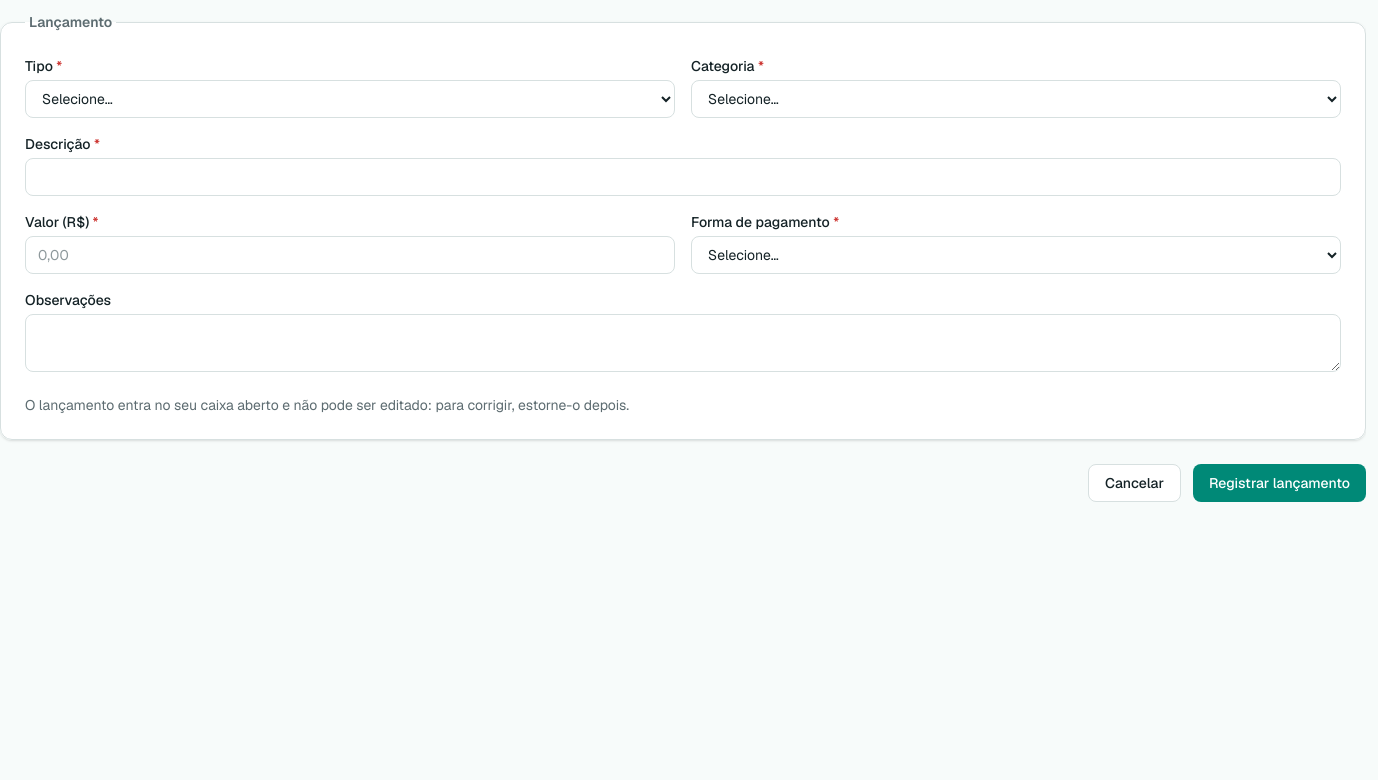
Test case: LancamentoForm › valida no navegador antes de enviar
Click the button "Registrar lançamento" at coordinates (1280, 483), box [1193,464,1366,502]
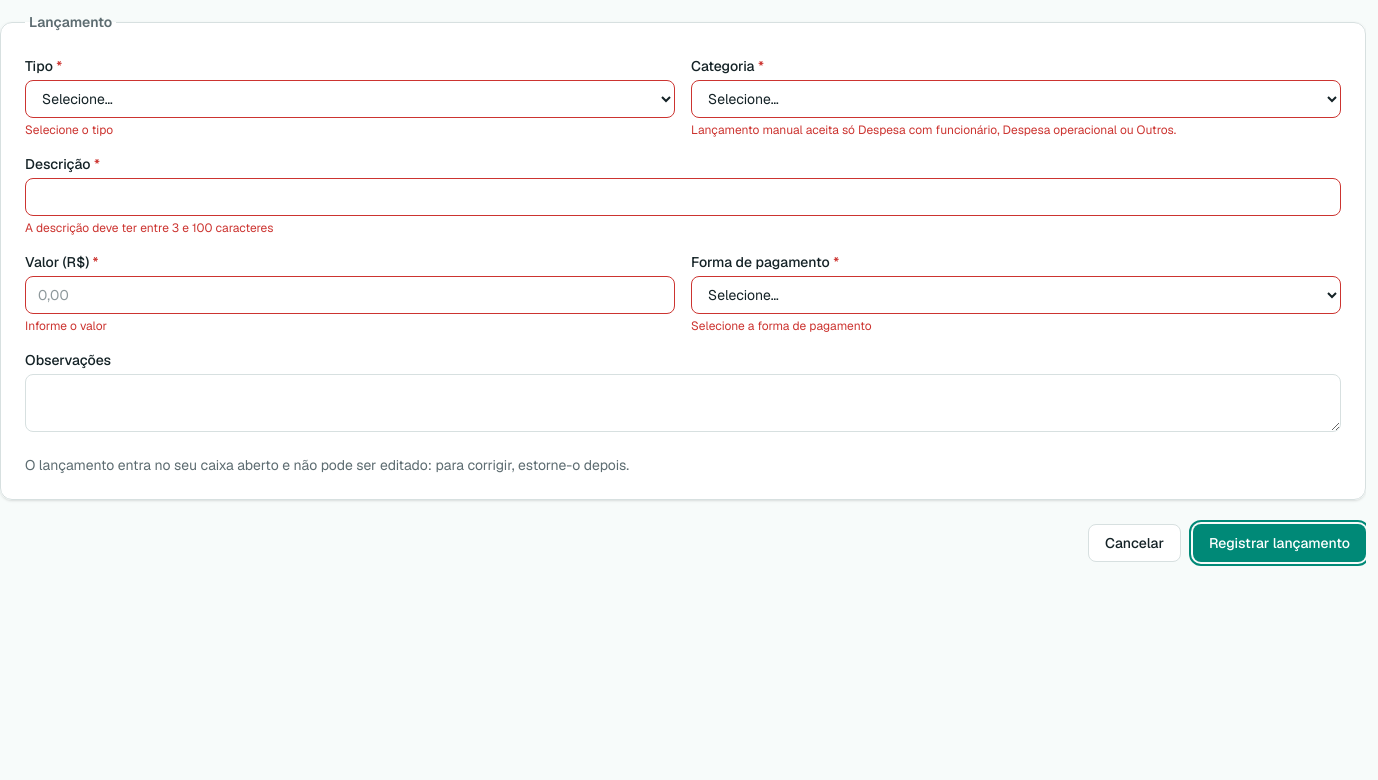
Check: the text "A descrição deve ter entre 3 e 100 caracteres" is shown, box [25,220,274,236]
